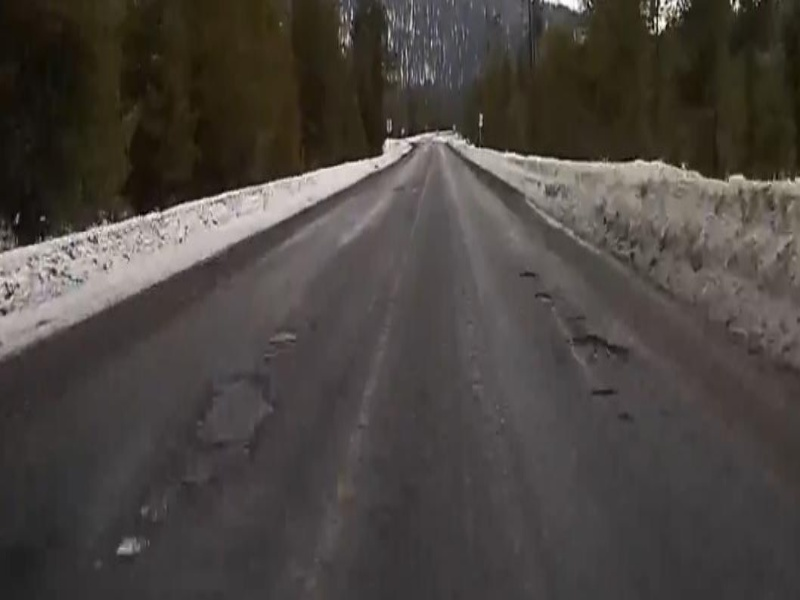pothole: (190, 369, 276, 447), (568, 333, 630, 380)
